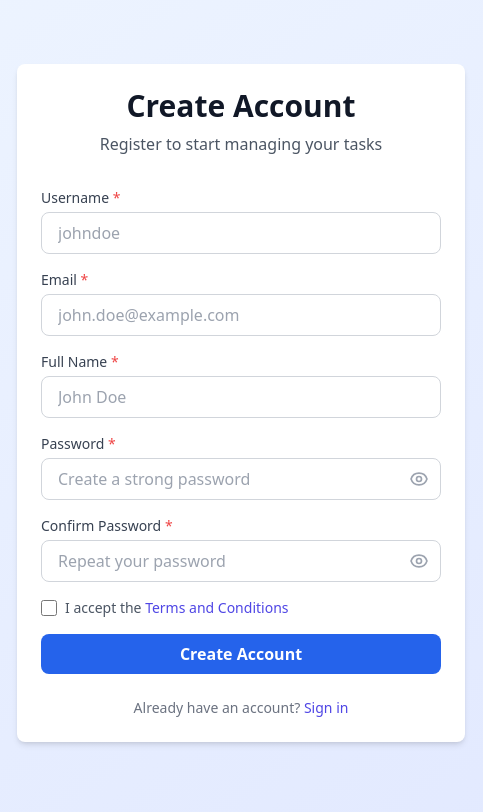
RegisterView › should show API error on registration failure
Type "existinguser" into the field with id "username".
click(241, 233); type("existinguser")  # box left=41, top=212, right=441, bottom=254
Type "existing@example.com" into the field with id "email".
click(241, 315); type("existing@example.com")  # box left=41, top=294, right=441, bottom=336
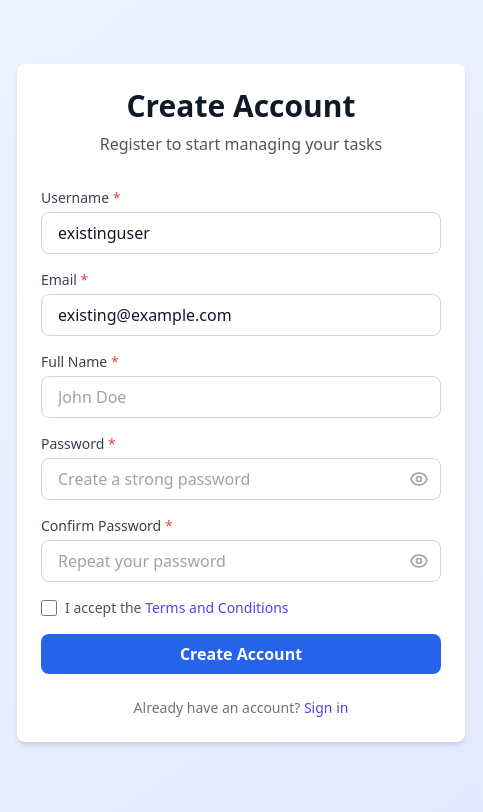
Type "ValidPass123!" into the password field labelled "Password *".
click(241, 479); type("ValidPass123!")  # box left=41, top=458, right=441, bottom=500
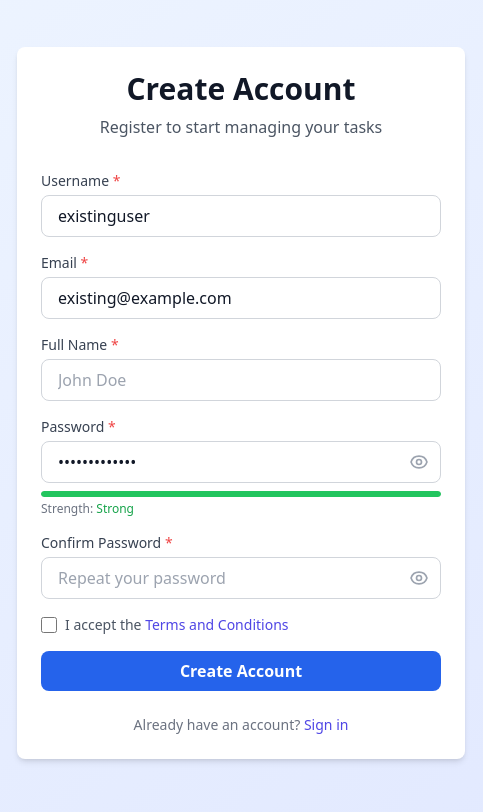
Type "ValidPass123!" into the password field with id "confirmPassword".
click(241, 578); type("ValidPass123!")  # box left=41, top=557, right=441, bottom=599
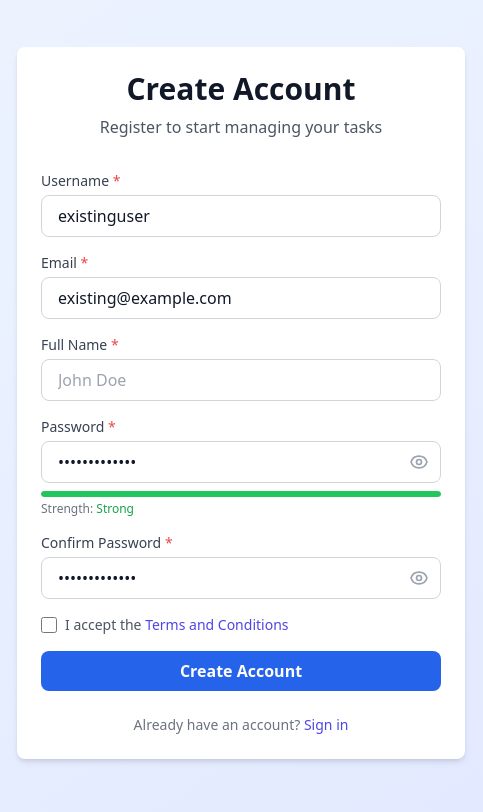
Type "Existing User" into the field with id "fullName".
click(241, 380); type("Existing User")  # box left=41, top=359, right=441, bottom=401
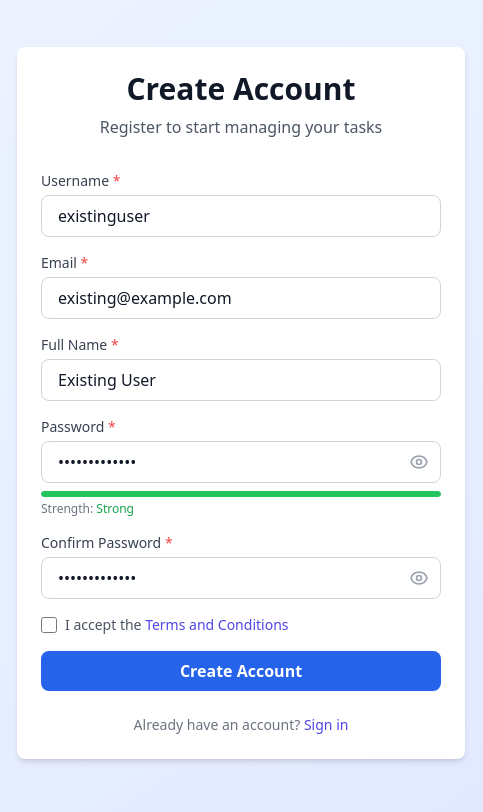
Click the checkbox labelled "I accept the Terms and Conditions".
click(49, 625)  # box left=41, top=617, right=57, bottom=633
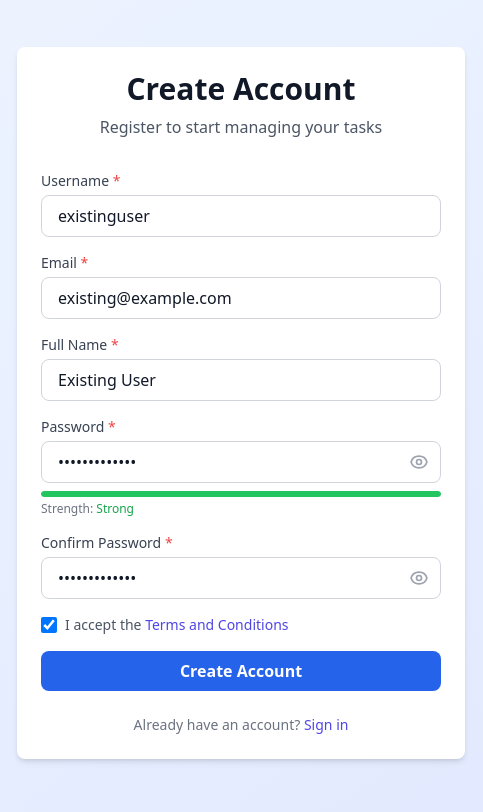
Submit the form, box left=41, top=171, right=441, bottom=691
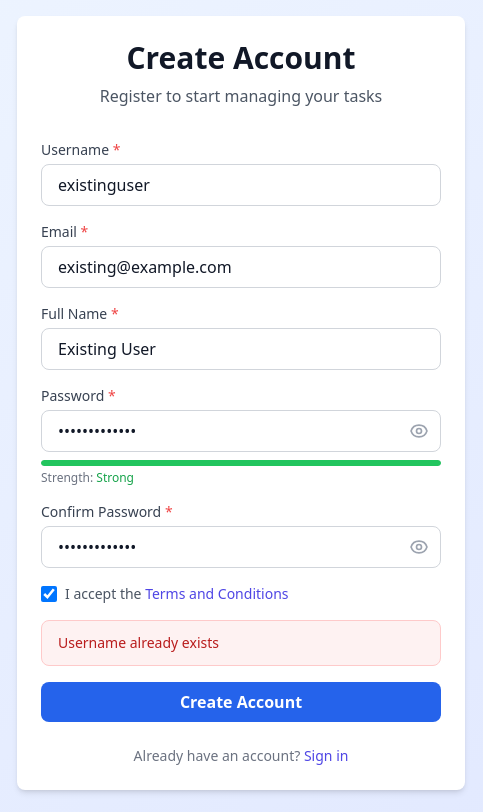
Now the text "Username already exists" is shown, box left=41, top=620, right=441, bottom=666
